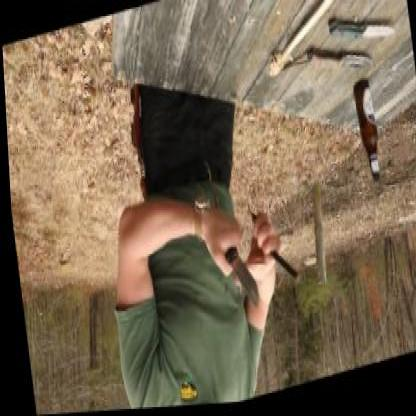knife: (204, 203, 260, 329)
